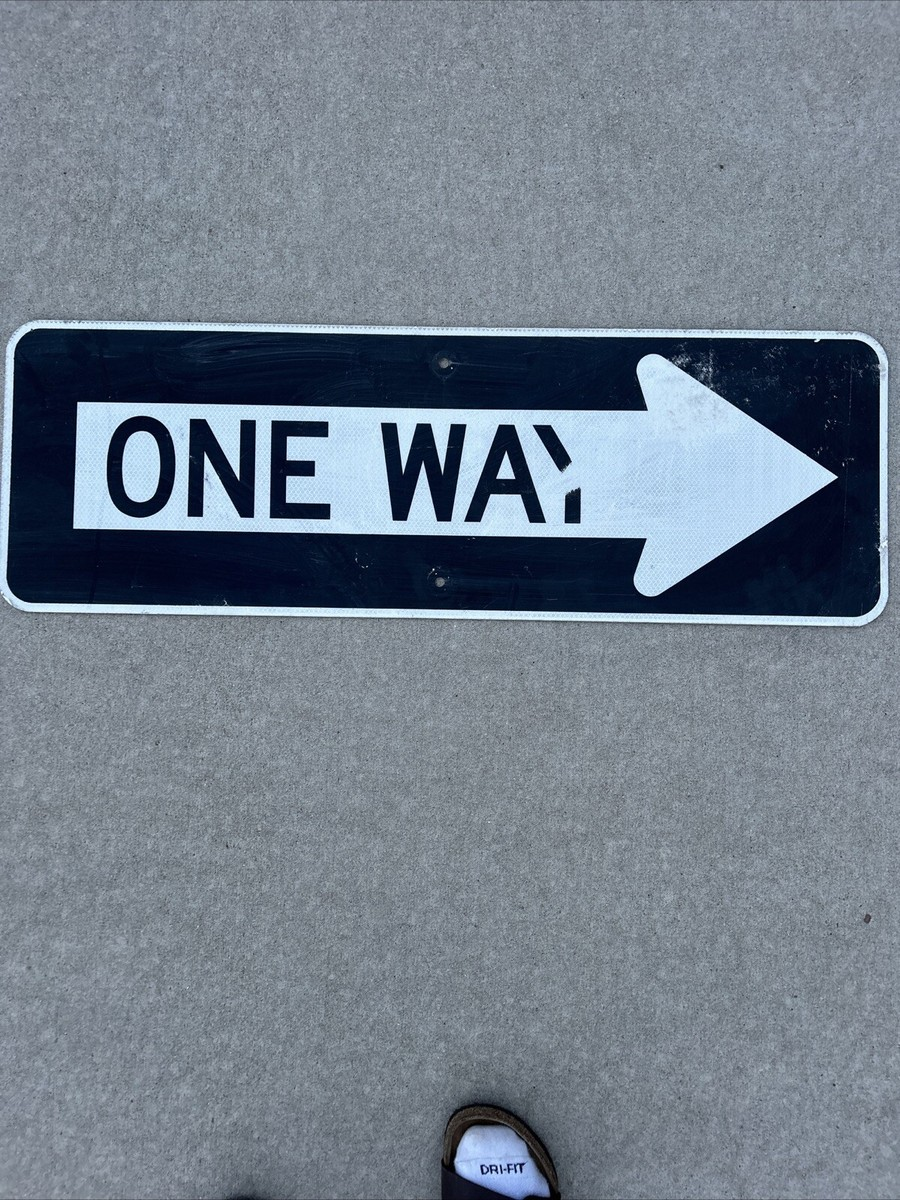One Way Right: (60, 351, 852, 599)
